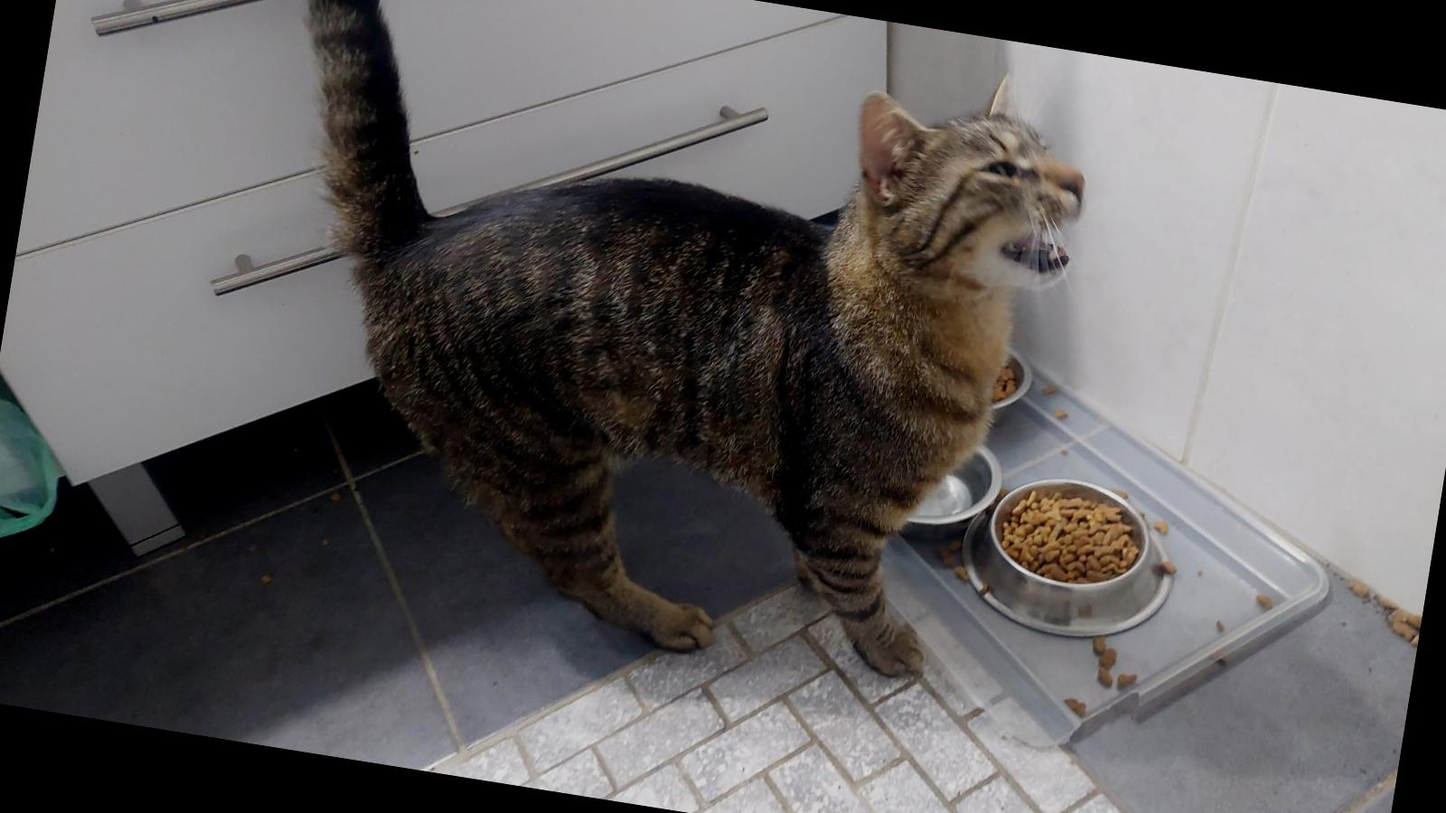macka: (192, 0, 1106, 703)
